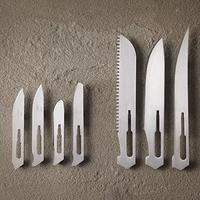knife: (114, 32, 141, 171), (171, 27, 194, 176), (145, 37, 168, 169), (68, 83, 94, 169), (30, 85, 48, 170), (10, 86, 26, 173), (51, 97, 67, 176)
